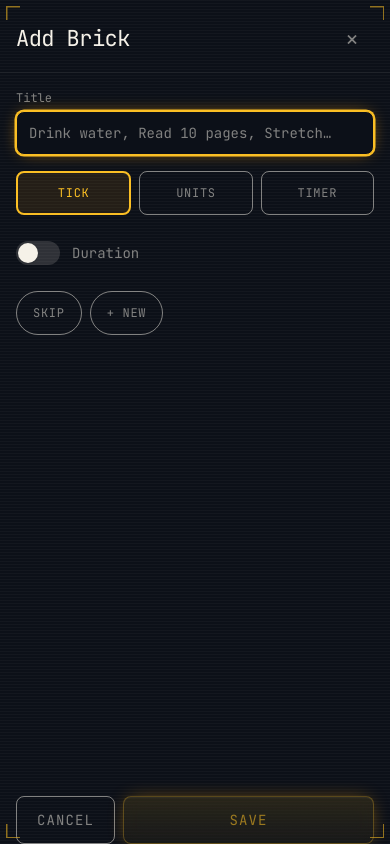
Test case: C-m4e-002: clicking Duration toggle ON reveals time fields › flips aria-checked to true; haptics.light called; Start/End/Recurrence appear; no AnimatePresence
Click the switch named "duration": x=38, y=253 [16,231,60,275]
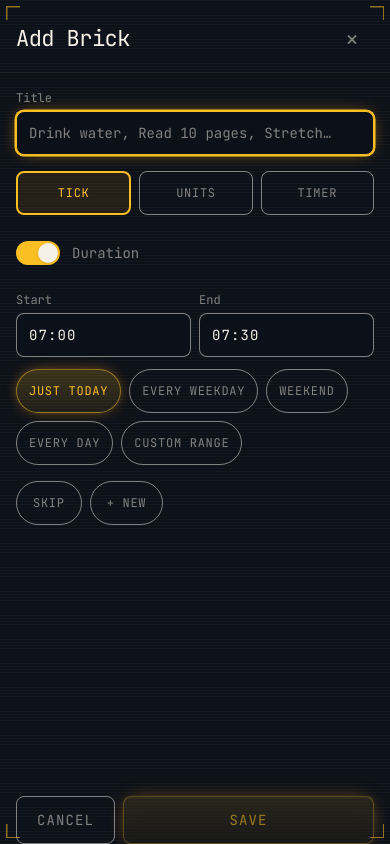
Expected: the label labelled "Start" is shown, [16,292,52,308]
Expected: the label labelled "End" is shown, [199,292,221,308]
Expected: the element showing "Just today Every weekday Weekend Every day Custom range" is shown, [16,369,374,465]
